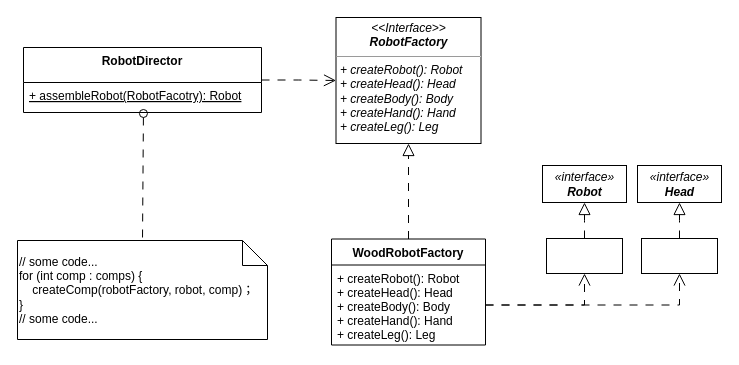
The diagram is 739 pixels wide and 365 high, and some of its shapes have lost their labels. The shapes that lost their labels are listed below. From the top down, each one's centre as x and y in pixels, then its label:
At (584,256): "WoodRobot".
At (679,256): "WoodHead".
